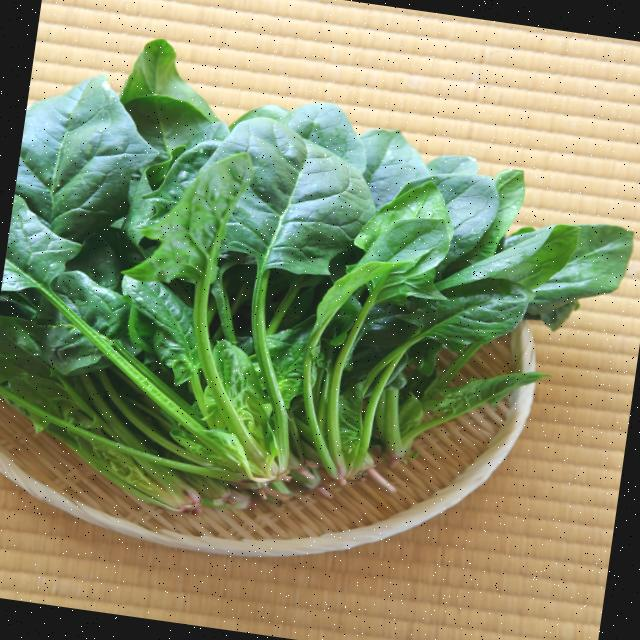spinach: (0, 7, 640, 582)
